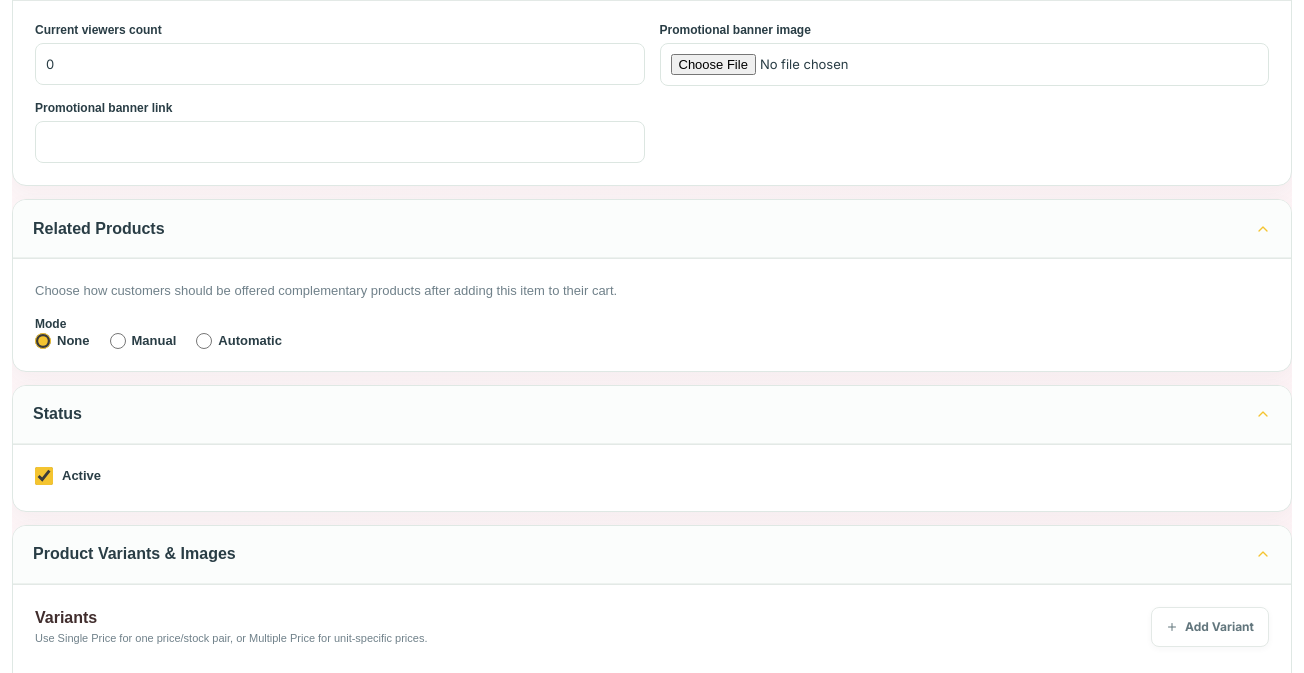
it: product editor related-products configuration › shows automatic mode guidance and clears the manual UI when mode changes
(page scrolled)
Click the radio button labelled "Automatic": (204,341) [196,333,212,349]
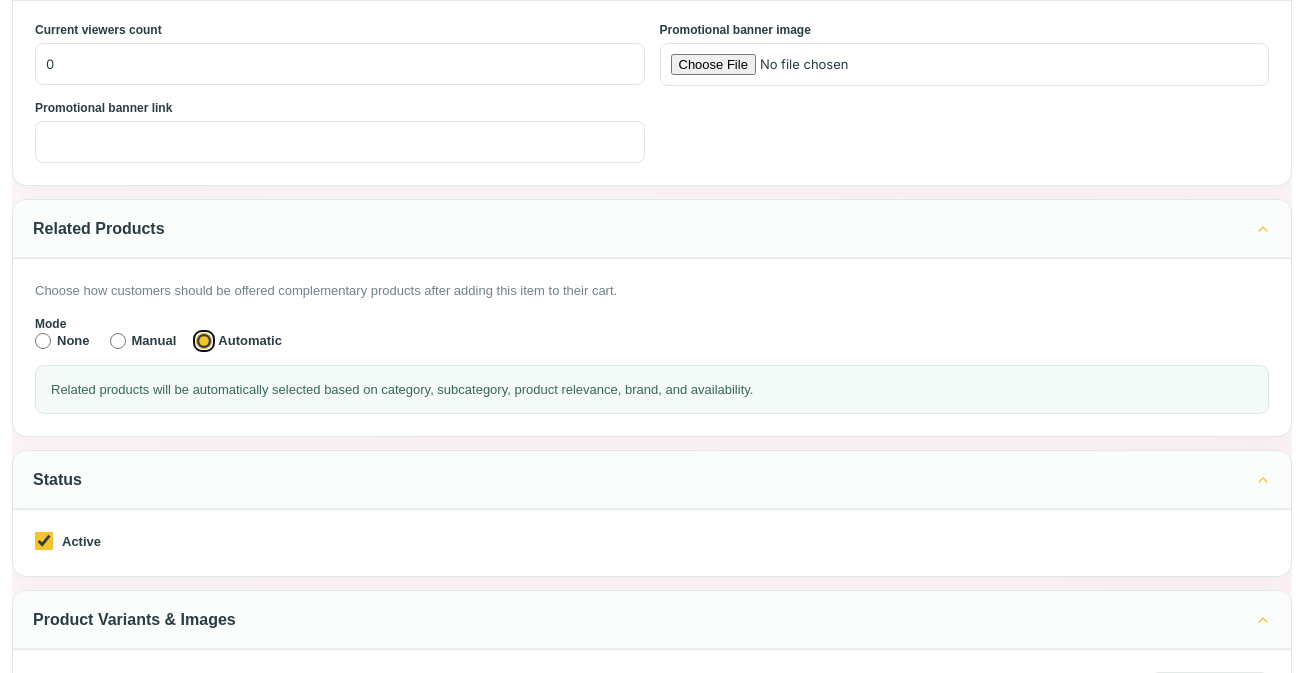
Expected: the text "Related products will be automatically selected based on category, subcategory, product relevance, brand, and availabili" is shown, [51,382,753,397]
Click the radio button labelled "None": (43,341) [35,333,51,349]
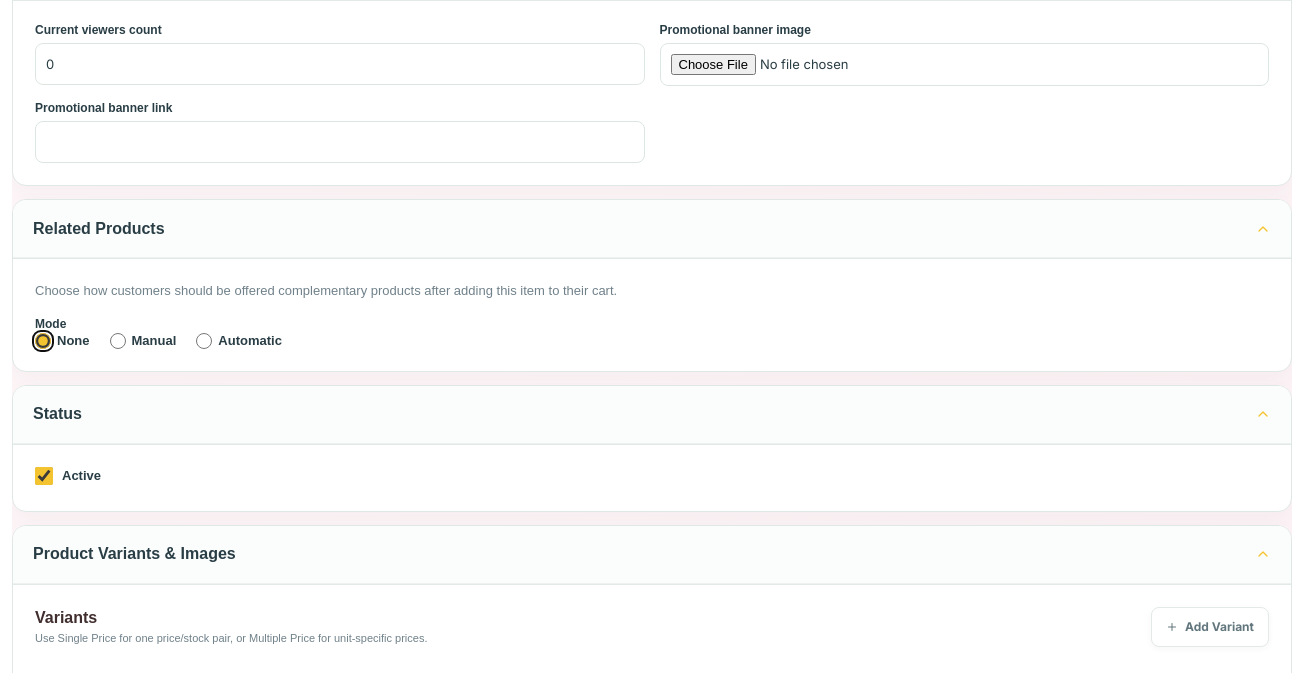
Expected: the text "automatically selected based on category" is gone
